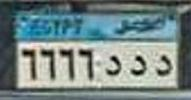6: (77, 45, 96, 82), (39, 46, 57, 82), (59, 46, 76, 83), (21, 46, 37, 82)
daal: (103, 52, 123, 81), (154, 52, 173, 82), (129, 53, 148, 81)
